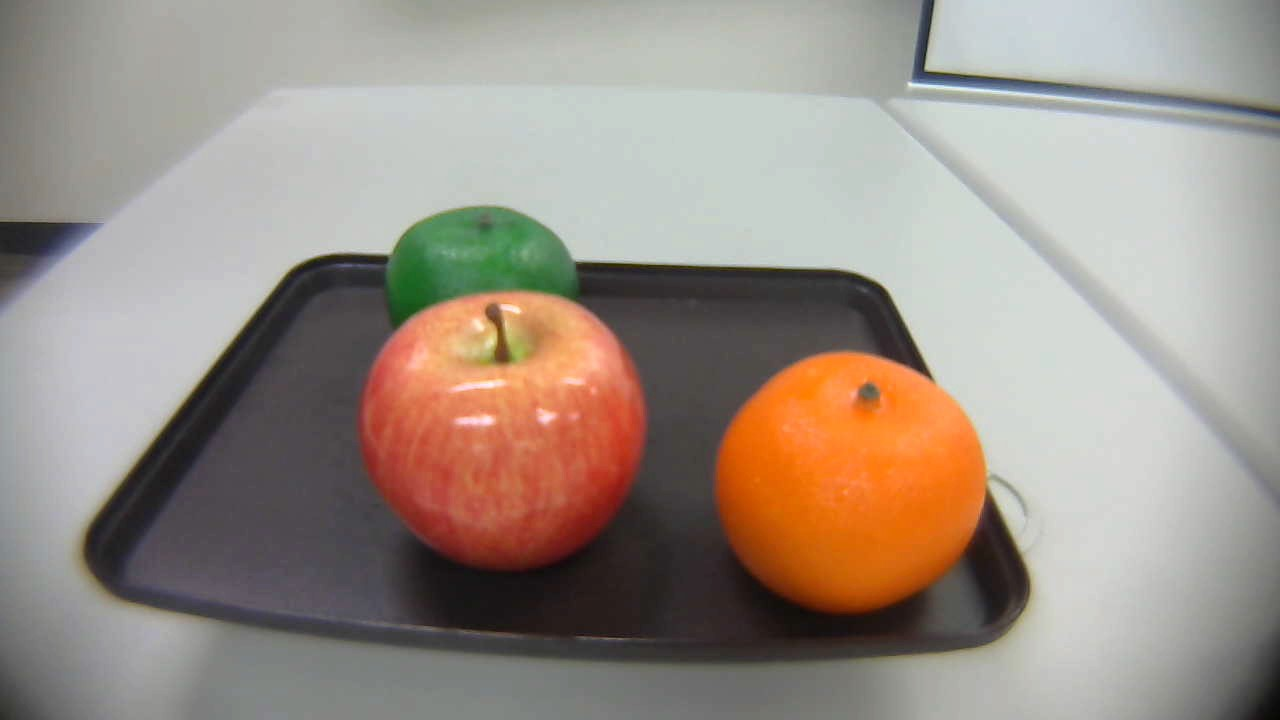green orange: (381, 205, 591, 347)
orange: (715, 351, 991, 622)
red apple: (357, 288, 655, 566)
